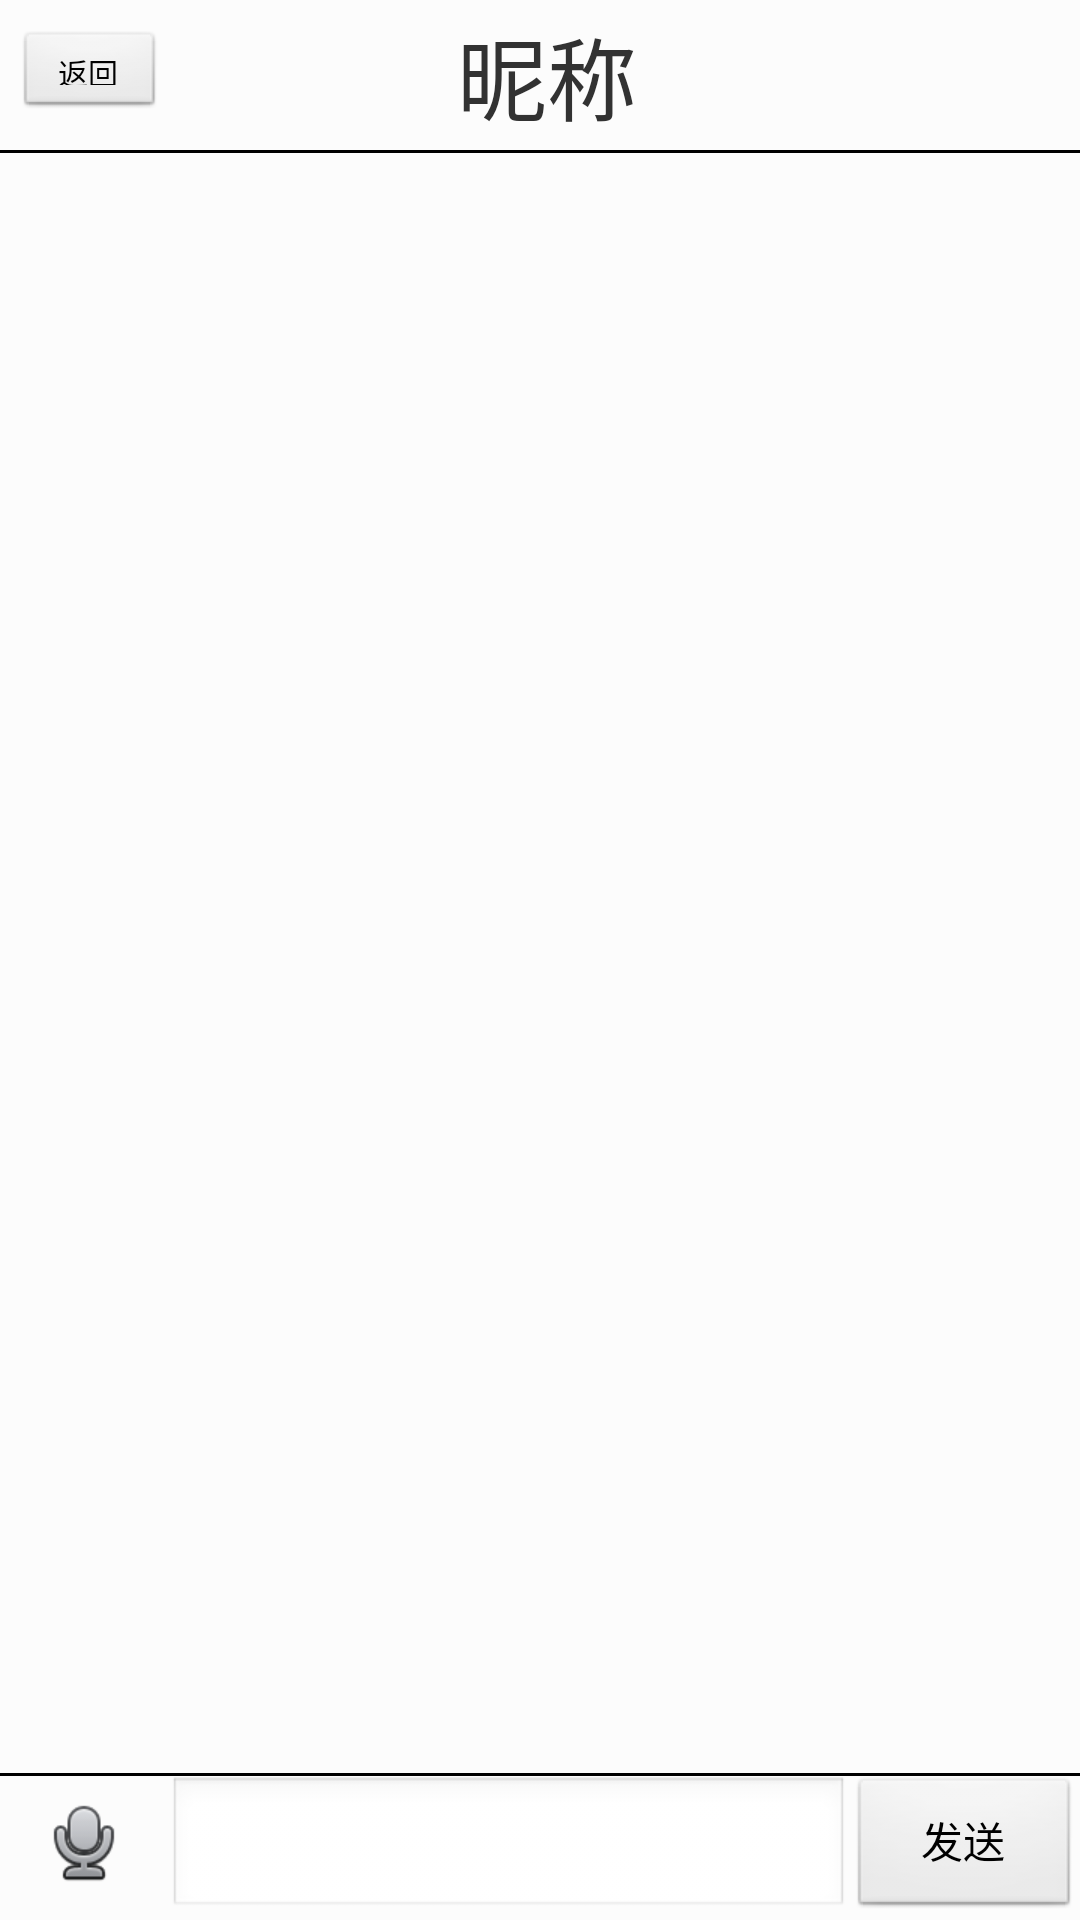

Icons on this 1080w x 1920h Android screen, each with its box as (x1, y1, x2, y2):
chat speak: (53, 1805, 115, 1881)
